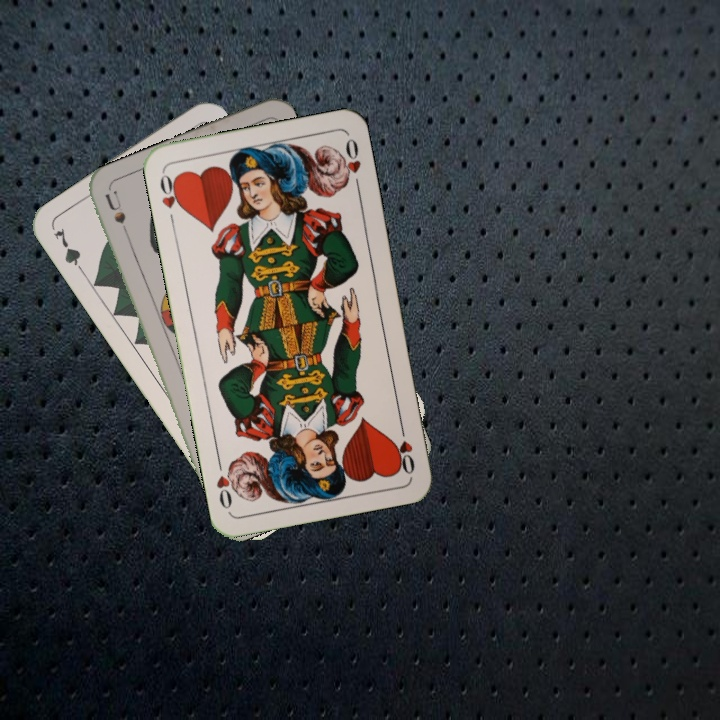G7: (49, 223, 89, 278)
HO: (156, 169, 185, 227), (392, 418, 418, 477)
SU: (100, 188, 135, 246)
